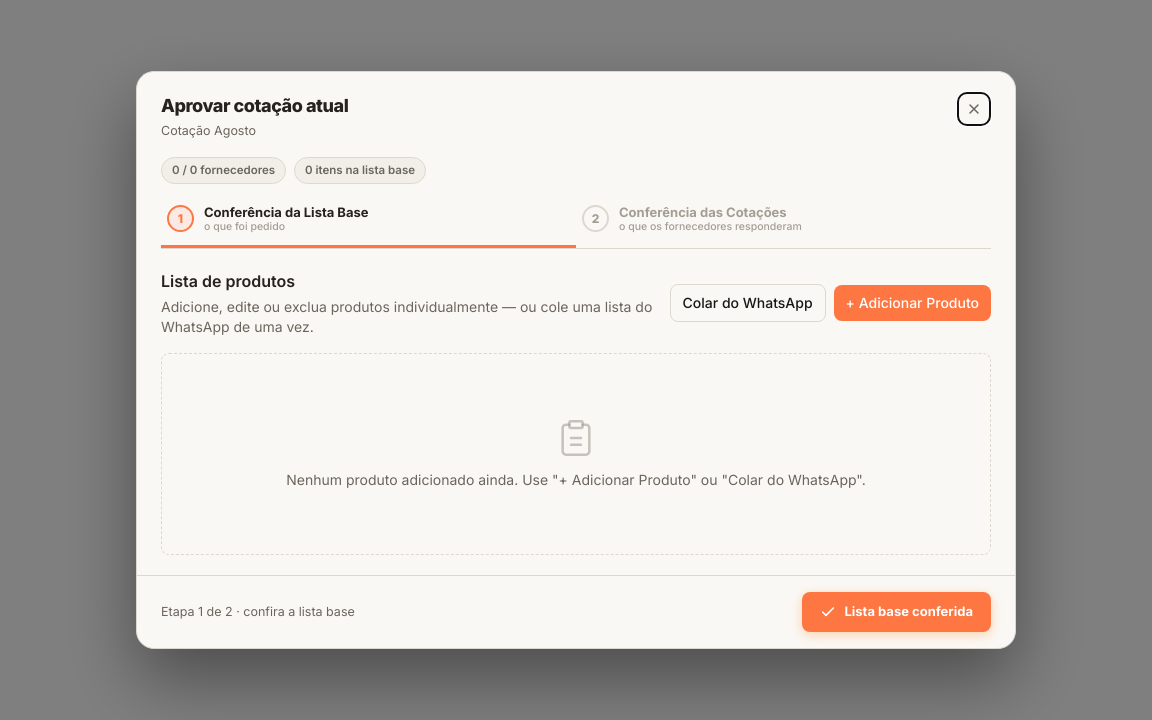
Test: AprovacaoModal — gate e fluxo de 'Lançar' › sem nenhum fornecedor, 'Lançar' também fica desabilitado (total=0 não conta como 'todos confirmados')
Click the button "Conferência das Cotações": [784, 224] box [576, 200, 991, 248]
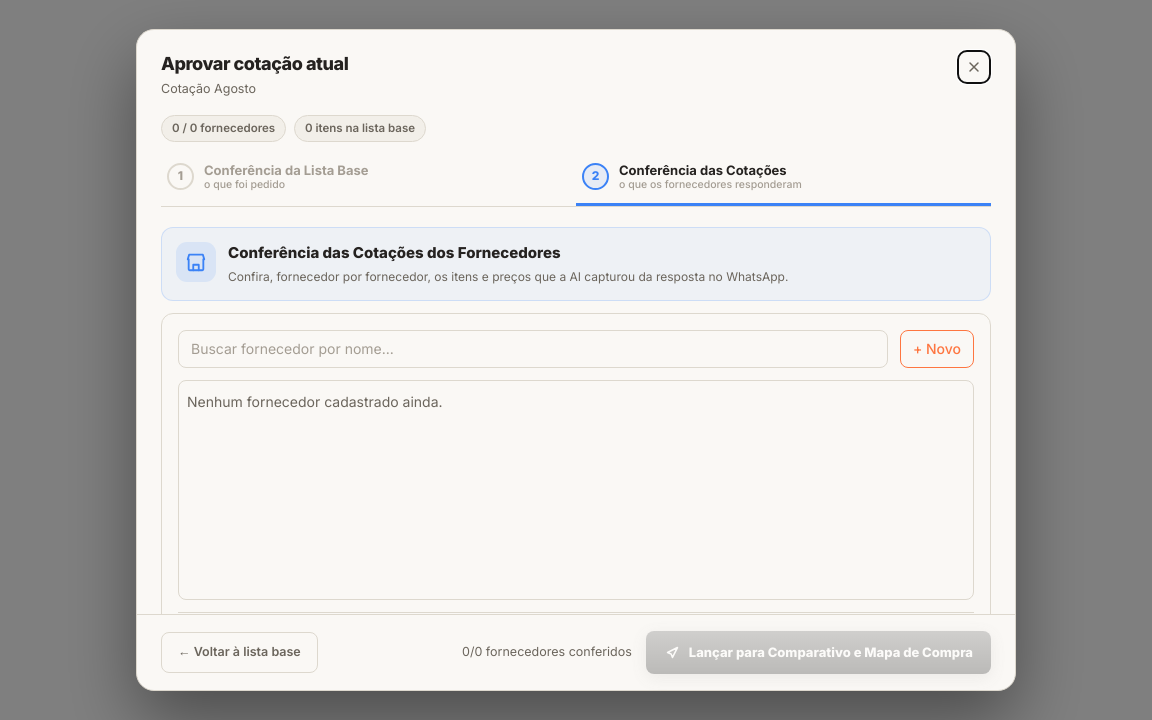
Result: the button "Lançar para Comparativo e Mapa de Compra" is disabled at [646, 631, 991, 674]
